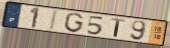1: (29, 7, 41, 30)
5: (85, 15, 105, 36)
9: (130, 20, 148, 41)
G: (64, 12, 85, 34)
I: (49, 10, 59, 32)
T: (110, 17, 126, 39)
